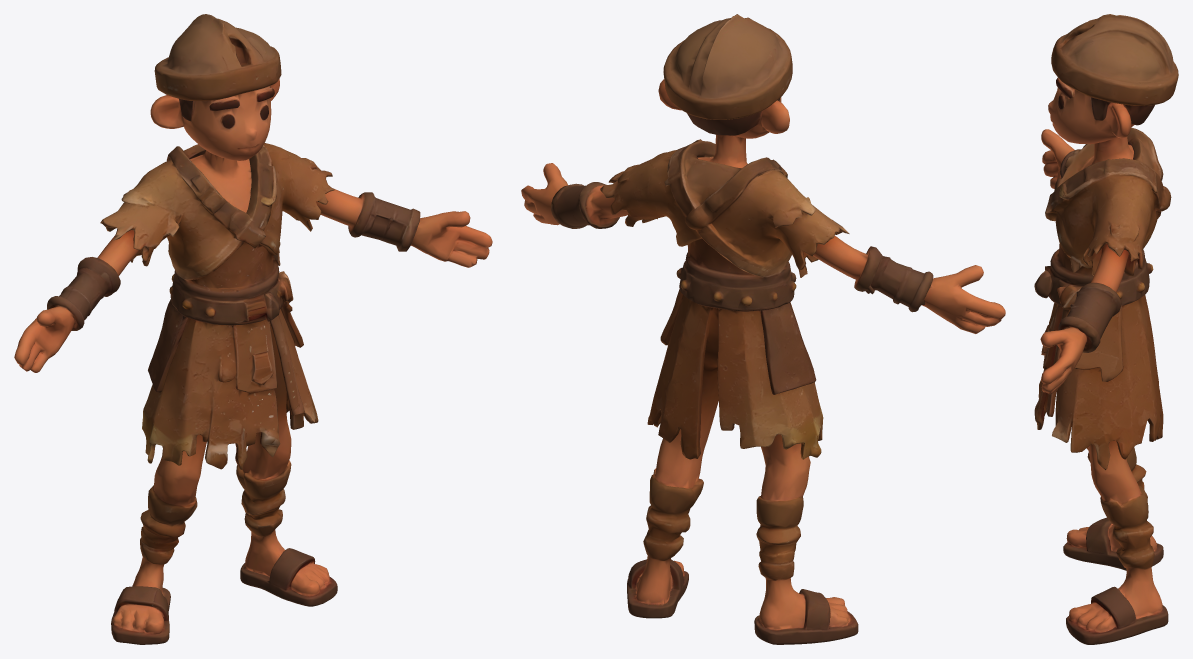
File: hero_slave.glb
3 views of the same model, side by side, from view 1: azimuth 30°, elevation 25°; view 2: azimuth 150°, elevation 25°; view 3: azimuth 270°, elevation 25° (orthographic). The views are drawn at different scales.
Parts seen in each view (by area): view 1: tripo_node_4823babc-70e4-479d-8f86-2f437bd2d711; view 2: tripo_node_4823babc-70e4-479d-8f86-2f437bd2d711; view 3: tripo_node_4823babc-70e4-479d-8f86-2f437bd2d711.
Part boxes in pixels (box(x1,y1,x2,y2)): tripo_node_4823babc-70e4-479d-8f86-2f437bd2d711: box(14, 14, 492, 644); tripo_node_4823babc-70e4-479d-8f86-2f437bd2d711: box(521, 14, 1005, 644); tripo_node_4823babc-70e4-479d-8f86-2f437bd2d711: box(1034, 14, 1178, 644).
Size of the model in its own units: 0.8428 by 1 by 0.2251.
Materials: 1 (1 with a texture image).
